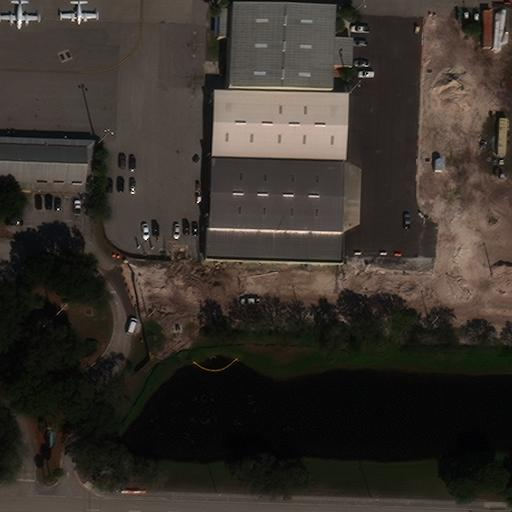Small Civil Transport: (1, 0, 37, 30), (61, 0, 96, 25)
